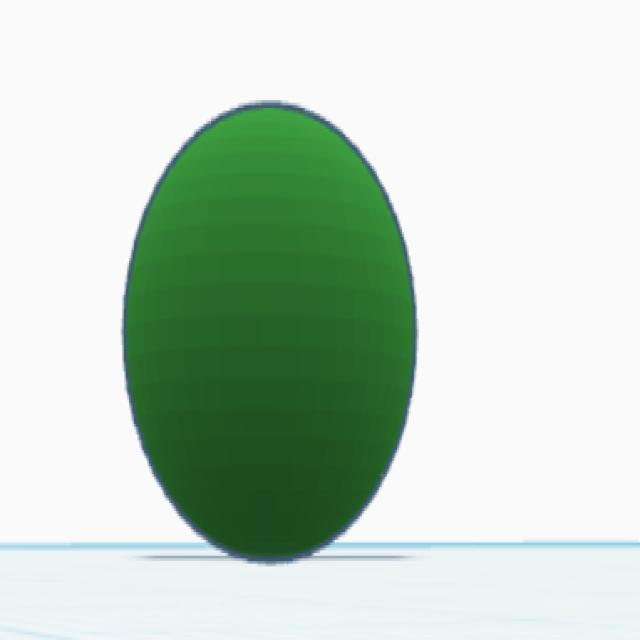sphere: (118, 98, 421, 568)
